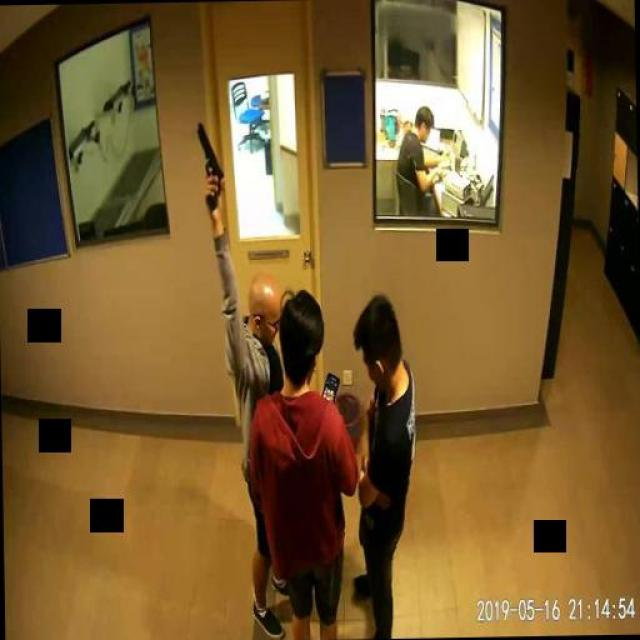gun: (197, 122, 225, 210)
